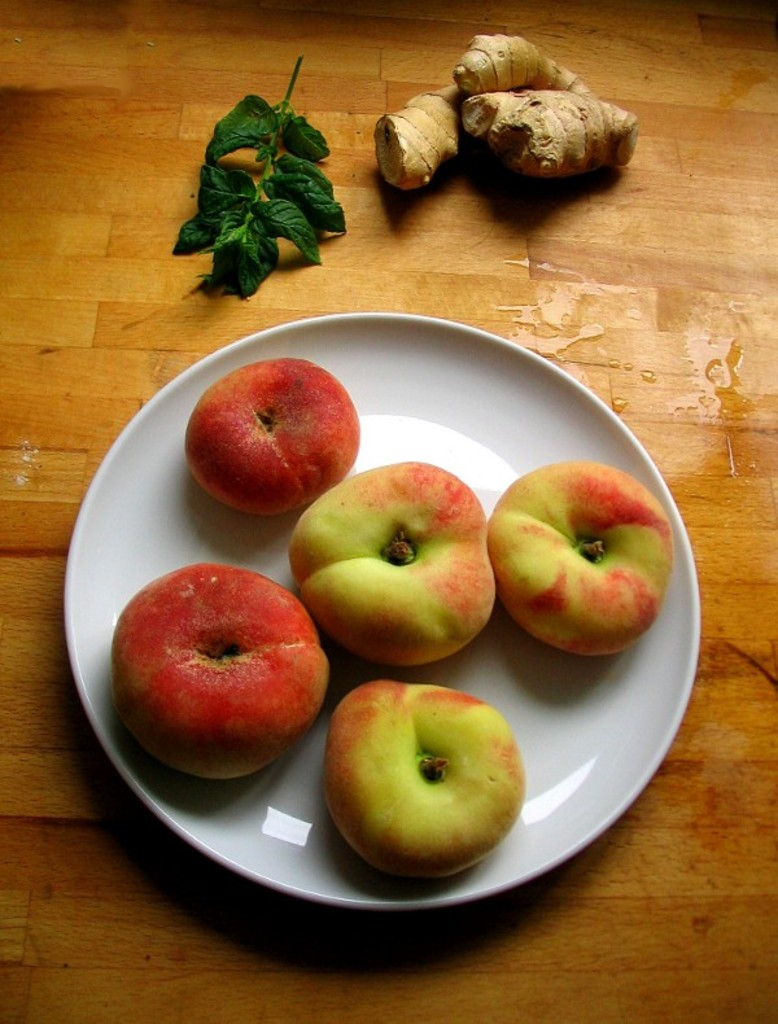Apple: (107, 561, 333, 772), (290, 456, 501, 672), (326, 677, 523, 877), (484, 457, 672, 661), (181, 353, 360, 510)
